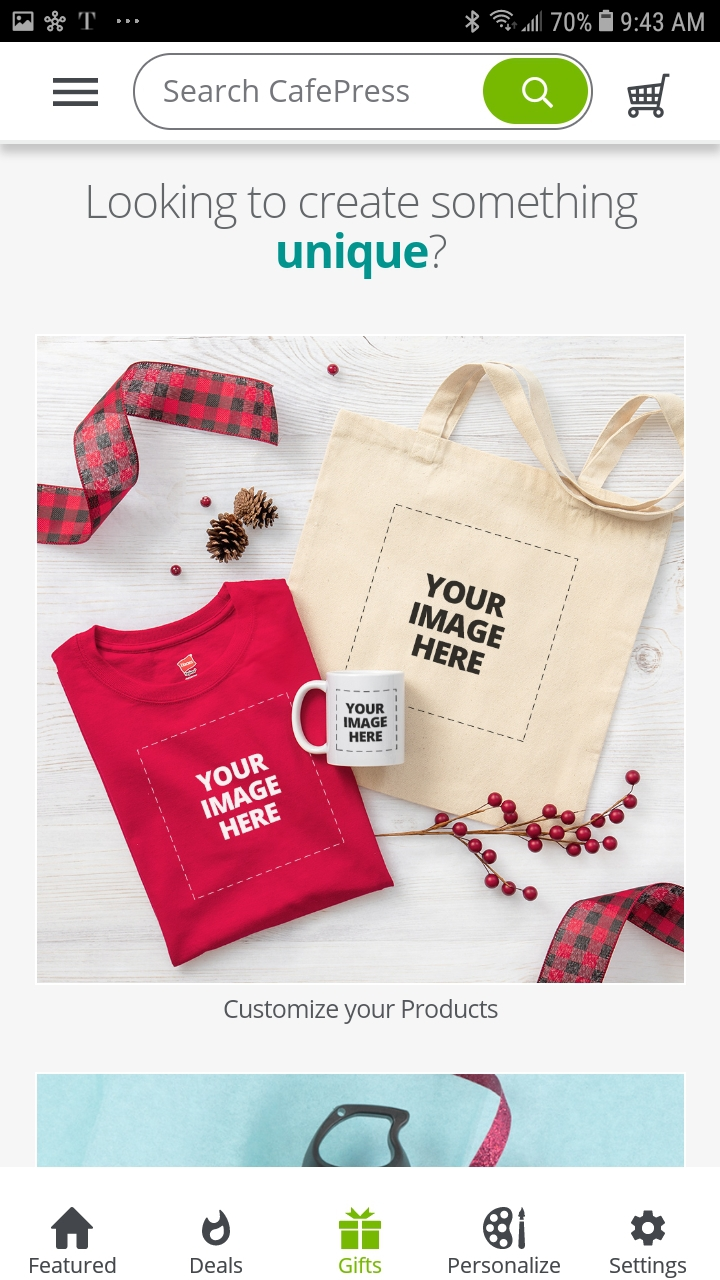EditText: (133, 53, 596, 132)
Icon: (484, 59, 588, 125), (626, 73, 671, 119), (339, 1207, 382, 1250), (51, 1207, 94, 1249), (53, 78, 100, 108), (630, 1210, 666, 1246), (202, 1209, 232, 1246)
Image: (38, 335, 684, 984), (37, 1073, 684, 1167), (483, 1206, 526, 1250)
Text: (90, 183, 639, 280), (225, 998, 499, 1025), (165, 78, 410, 103), (449, 1256, 561, 1274), (610, 1256, 687, 1279), (30, 1256, 117, 1274), (191, 1256, 244, 1274), (339, 1256, 382, 1274)
UpperTaskBar: (3, 1, 720, 43)
